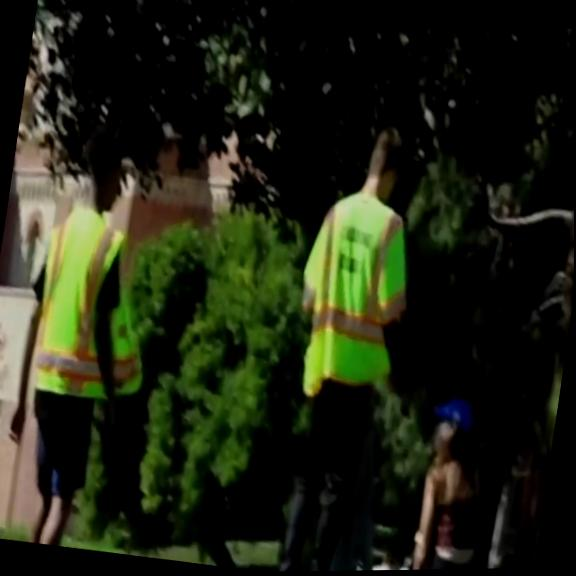safety_vest: (284, 184, 423, 408), (23, 197, 169, 406)
